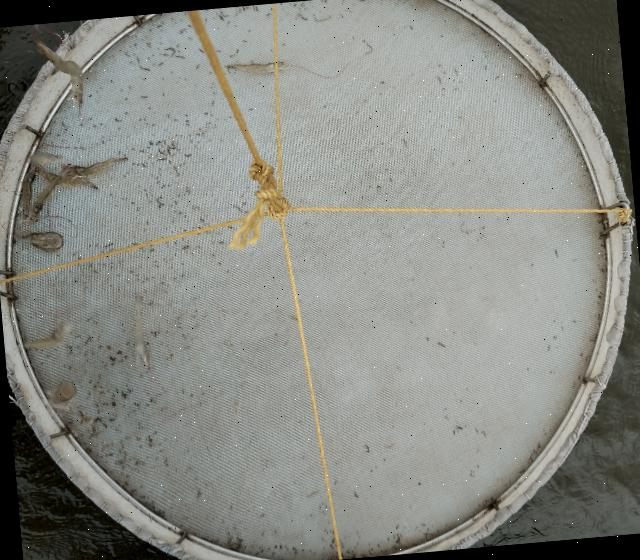shrimp: (28, 164, 72, 227), (48, 50, 84, 108), (25, 321, 70, 348), (69, 157, 128, 177), (134, 295, 150, 368), (14, 231, 64, 252), (22, 163, 40, 219), (227, 60, 289, 73), (51, 381, 77, 407)
